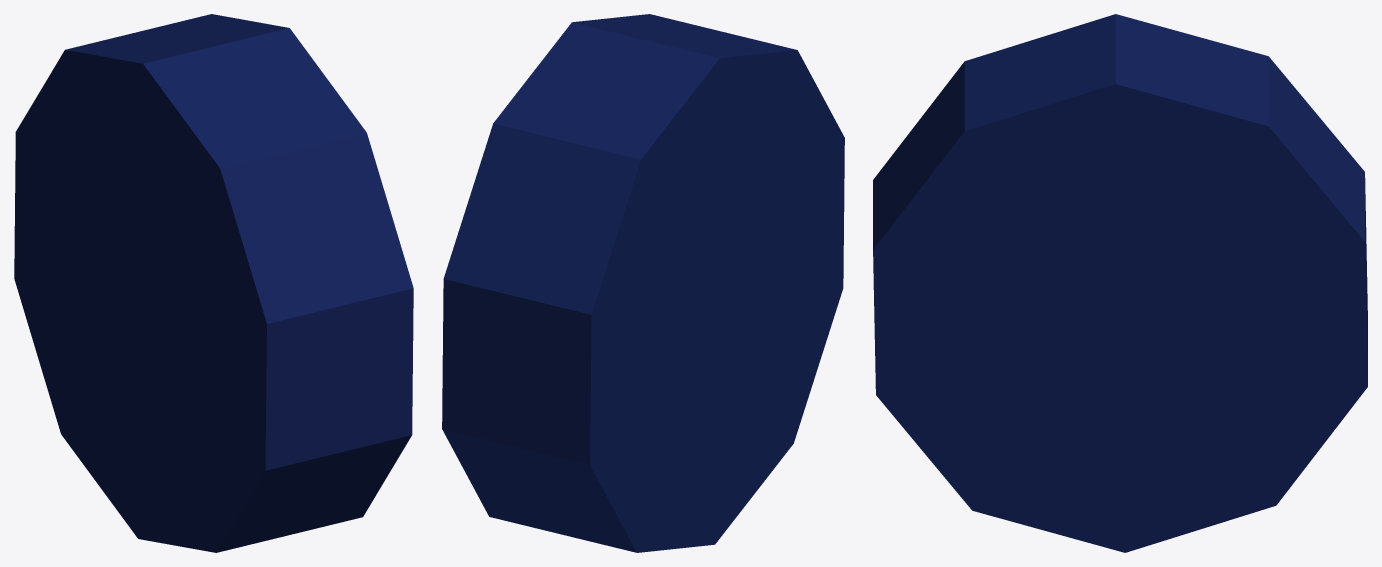
The model's file is YedekTeker.glb.
3 views of the same model, side by side, from view 1: azimuth 30°, elevation 25°; view 2: azimuth 150°, elevation 25°; view 3: azimuth 270°, elevation 25° (orthographic). The views are drawn at different scales.
Parts seen in each view (by area): view 1: Cylinder.057; view 2: Cylinder.057; view 3: Cylinder.057.
Boxes of the visible parts, bbox=[...] form: Cylinder.057: bbox=[14, 14, 413, 552]; Cylinder.057: bbox=[442, 14, 844, 552]; Cylinder.057: bbox=[873, 14, 1367, 552].
Size of the model in its own units: 0.00984 by 0.0307 by 0.0294.
1 material, 1 textured.
